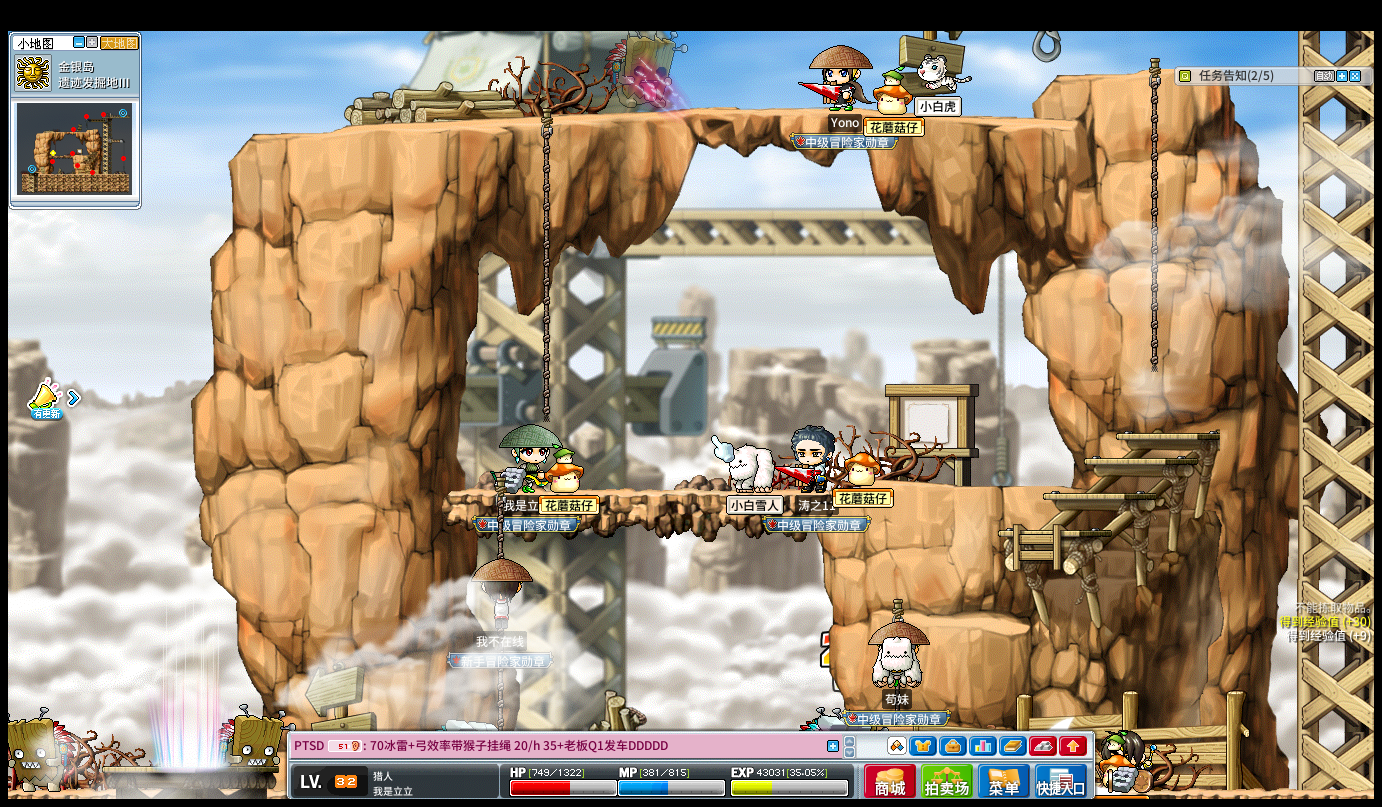floor: (253, 104, 1084, 138), (447, 488, 821, 499), (925, 613, 1029, 634), (908, 482, 1076, 492), (1052, 67, 1169, 81), (1114, 429, 1221, 441), (1077, 456, 1194, 464), (1041, 492, 1154, 500), (995, 528, 1108, 536)
monster: (216, 707, 291, 792), (2, 710, 76, 792), (605, 27, 677, 111)
rope: (1146, 55, 1160, 377), (540, 107, 551, 423), (541, 107, 551, 363), (492, 485, 504, 560)
